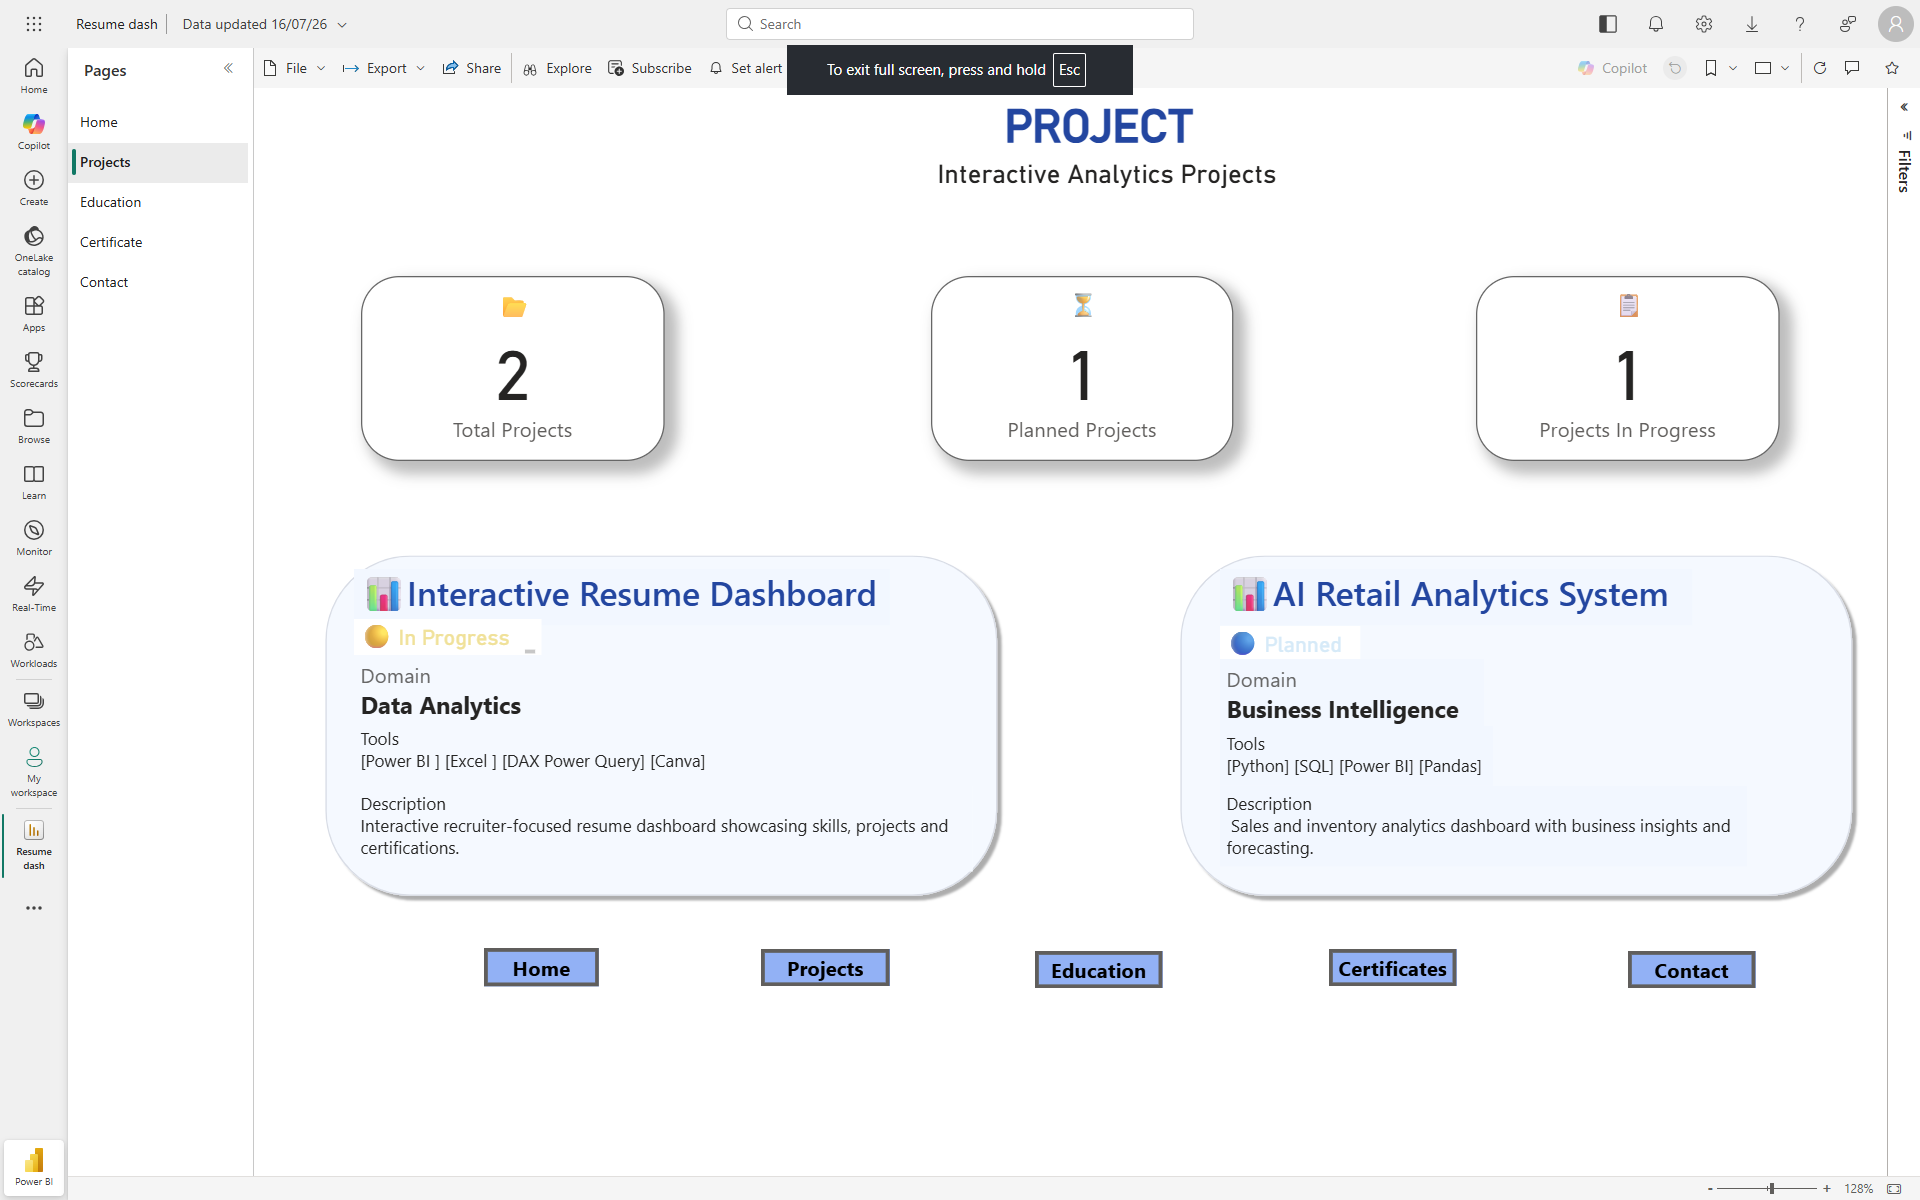

What the dashboard file says about the page in this screenshot:
{"tool":"powerbi","page":{"name":"Projects","canvas":[1280,720],"ordinal":1},"visuals":[{"type":"textbox","title":"PROJECTS","box":[583.1,8.6,158.7,39.7],"z":0},{"type":"textbox","title":"Interactive Analytics Projects","box":[530.9,55.7,291.5,23.9],"z":1000},{"type":"card","title":"📂","fields":{"Values":["CountNonNull(Projects.Project Name)"]},"box":[83.9,147.5,237.6,144.9],"z":2000},{"type":"card","title":"⏳","fields":{"Values":["Projects.Planned Projects"]},"box":[530.9,147.5,236.7,144.9],"z":3000},{"type":"card","title":"📋","fields":{"Values":["Projects.Projects In Progress"]},"box":[957.6,147.5,237.6,144.9],"z":4000},{"type":"shape","box":[49.5,359.5,539.7,280],"z":5000},{"type":"textbox","title":"📊Interactive Resume Dashboard","box":[78.6,377.2,419.6,44.2],"z":6000},{"type":"shape","box":[719.9,359.5,539.7,280],"z":7000},{"type":"textbox","title":"🟡 In Progress","box":[78.6,416.1,146.6,31.8],"z":8000},{"type":"textbox","title":"🔵 Planned","box":[757,421.4,109.5,26.5],"z":9000},{"type":"textbox","title":"Domain","box":[78.6,444.3,171.4,56.5],"z":10000},{"type":"textbox","box":[78.6,496.5,289.7,50.4],"z":11000},{"type":"textbox","box":[78.6,546.8,485,67.1],"z":12000},{"type":"textbox","title":" 📊AI Retail Analytics System","box":[757,377.2,370.1,44.2],"z":13000},{"type":"textbox","box":[757,447.9,206.7,59.2],"z":14000},{"type":"textbox","box":[757,500,213.8,46.8],"z":15000},{"type":"textbox","box":[757,546.8,412.5,62.7],"z":16000},{"type":"actionButton","title":"Home","box":[180.2,674,90.1,30],"z":17000},{"type":"actionButton","title":"Projects","box":[397.5,674.9,100.7,29.2],"z":18000},{"type":"actionButton","title":"Experince","box":[612.2,676.7,99.8,29.2],"z":19000},{"type":"actionButton","title":"Certificates","box":[842.7,674.9,99.8,29.2],"z":20000},{"type":"actionButton","title":"Contact","box":[1076.8,676.7,99.8,29.2],"z":21000}]}

Visuals, with their boxes on the page's 1280x720 design canvas (x1, y1, x2, y2). These are canvas units, not pixel positions in the 1920x1200 screenshot, which may show the page scaled, cropped or inside an application window:
"PROJECTS" textbox: [583, 9, 742, 48]
"Interactive Analytics Projects" textbox: [531, 56, 822, 80]
"📂" card: [84, 148, 322, 292]
"⏳" card: [531, 148, 768, 292]
"📋" card: [958, 148, 1195, 292]
shape: [50, 360, 589, 640]
"📊Interactive Resume Dashboard" textbox: [79, 377, 498, 421]
shape: [720, 360, 1260, 640]
"🟡 In Progress" textbox: [79, 416, 225, 448]
"🔵 Planned" textbox: [757, 421, 866, 448]
"Domain" textbox: [79, 444, 250, 501]
textbox: [79, 496, 368, 547]
textbox: [79, 547, 564, 614]
" 📊AI Retail Analytics System" textbox: [757, 377, 1127, 421]
textbox: [757, 448, 964, 507]
textbox: [757, 500, 971, 547]
textbox: [757, 547, 1170, 610]
"Home" actionButton: [180, 674, 270, 704]
"Projects" actionButton: [398, 675, 498, 704]
"Experince" actionButton: [612, 677, 712, 706]
"Certificates" actionButton: [843, 675, 942, 704]
"Contact" actionButton: [1077, 677, 1177, 706]
